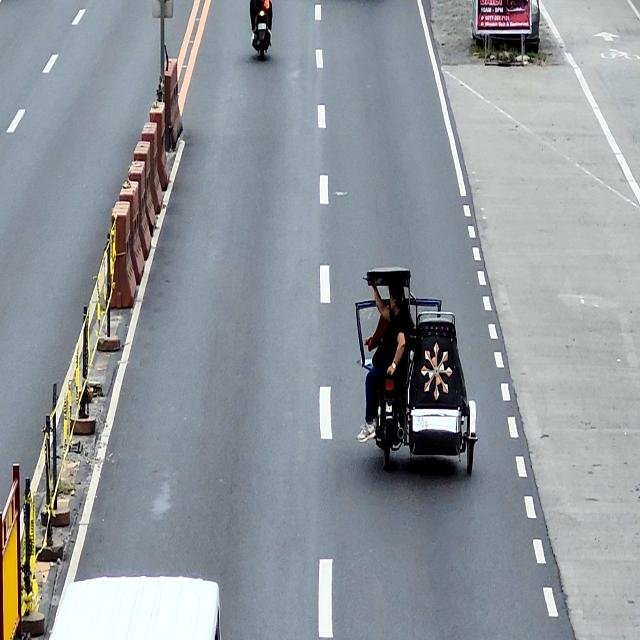License-Plate: (258, 23, 266, 30)
Motorcycle: (252, 0, 272, 61)
Tricycle: (362, 266, 478, 477)
